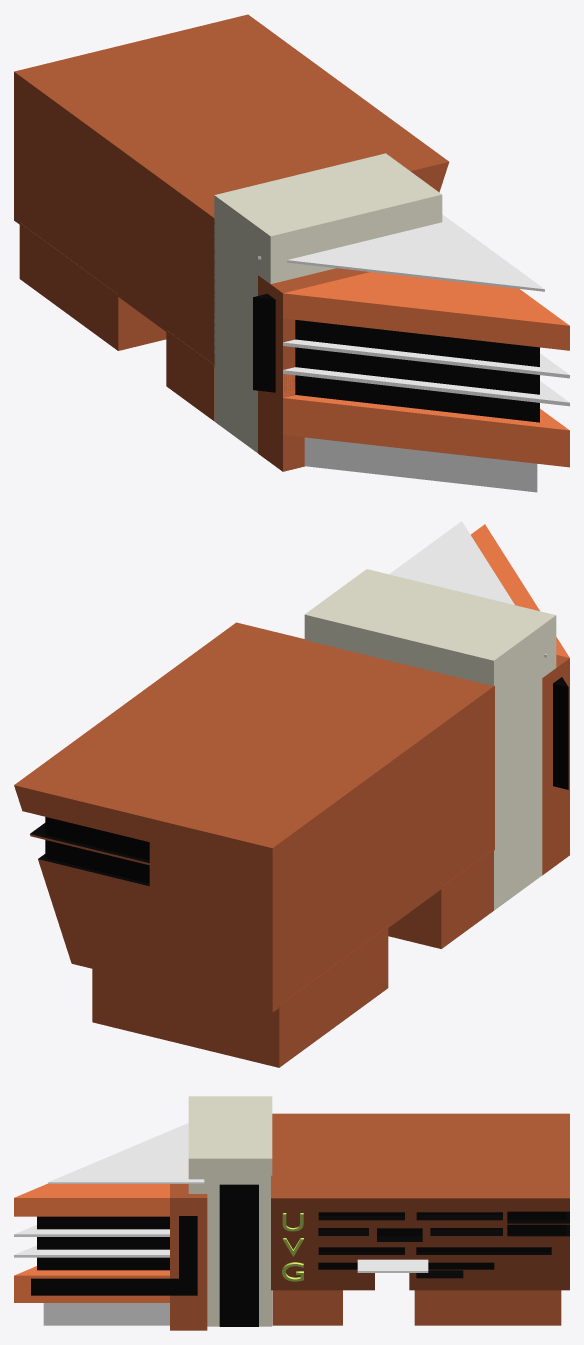
File: UVG.glb
3 views of the same model, one above another, from view 1: azimuth 30°, elevation 25°; view 2: azimuth 150°, elevation 25°; view 3: azimuth 270°, elevation 25° (orthographic). The views are drawn at different scales.
Visible parts, largest first — view 1: Cube.008, Cube.005, Cube.007, Cube.018, Cube.013, Cube.015, Cube.004, Cube.000, Cube.014; view 2: Cube.008, Cube.007, Cube.015, Cube.014, Cube.013, Cube.000, Cube.016, Cube.005, Cube.018; view 3: Cube.008, Cube.007, Cube.005, Cube.017, Cube.018, Cube.015, Cube.013, Cube.000, Cube.004, Cube.020, Cube.014, Cube.019 (+2 smaller).
Boxes of the visible parts, x1,y1,x2,y2 form: Cube.008: (14, 14, 449, 367); Cube.005: (283, 272, 569, 467); Cube.007: (214, 153, 442, 452); Cube.018: (253, 293, 539, 422); Cube.013: (258, 214, 544, 291); Cube.015: (19, 223, 166, 350); Cube.004: (304, 437, 537, 492); Cube.000: (258, 268, 369, 471); Cube.014: (166, 330, 214, 420); Cube.008: (14, 622, 494, 1012); Cube.007: (304, 569, 556, 910); Cube.015: (92, 926, 388, 1067); Cube.014: (388, 848, 493, 948); Cube.013: (389, 521, 546, 657); Cube.000: (542, 655, 569, 875); Cube.016: (45, 817, 149, 883); Cube.005: (471, 524, 569, 657); Cube.018: (553, 677, 568, 789); Cube.008: (271, 1113, 569, 1290); Cube.007: (188, 1096, 272, 1326); Cube.005: (14, 1183, 169, 1302); Cube.017: (219, 1184, 258, 1326); Cube.018: (37, 1216, 169, 1270); Cube.015: (414, 1290, 561, 1325); Cube.013: (48, 1123, 204, 1183); Cube.000: (170, 1184, 207, 1330); Cube.004: (43, 1303, 169, 1325); Cube.020: (31, 1278, 197, 1295); Cube.014: (272, 1290, 342, 1325); Cube.019: (179, 1216, 197, 1295).
Size of the model in its own units: 6.04 by 5.26 by 15.74.
